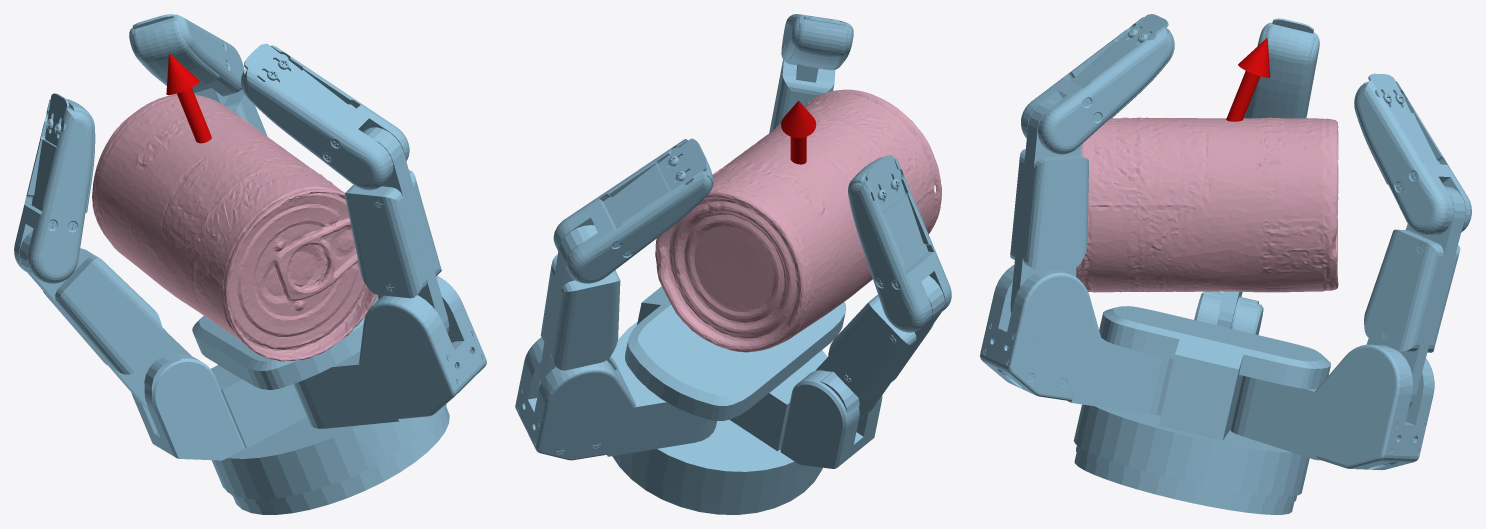
3 renders of one model, left to right at view 1: azimuth 30°, elevation 25°; view 2: azimuth 150°, elevation 25°; view 3: azimuth 270°, elevation 25°, orthographic. The views are drawn at different scales.
Visible parts, largest first — view 1: world, tomato_soup_can.stl; view 2: world, tomato_soup_can.stl; view 3: world, tomato_soup_can.stl.
Boxes of the visible parts, <box> form: world: <box>14,14,486,514</box>; tomato_soup_can.stl: <box>92,94,376,361</box>; world: <box>515,14,951,514</box>; tomato_soup_can.stl: <box>655,89,941,352</box>; world: <box>980,14,1471,514</box>; tomato_soup_can.stl: <box>1076,117,1338,292</box>.
Bounding box in the file's own units: 0.1587 × 0.1933 × 0.1869.
